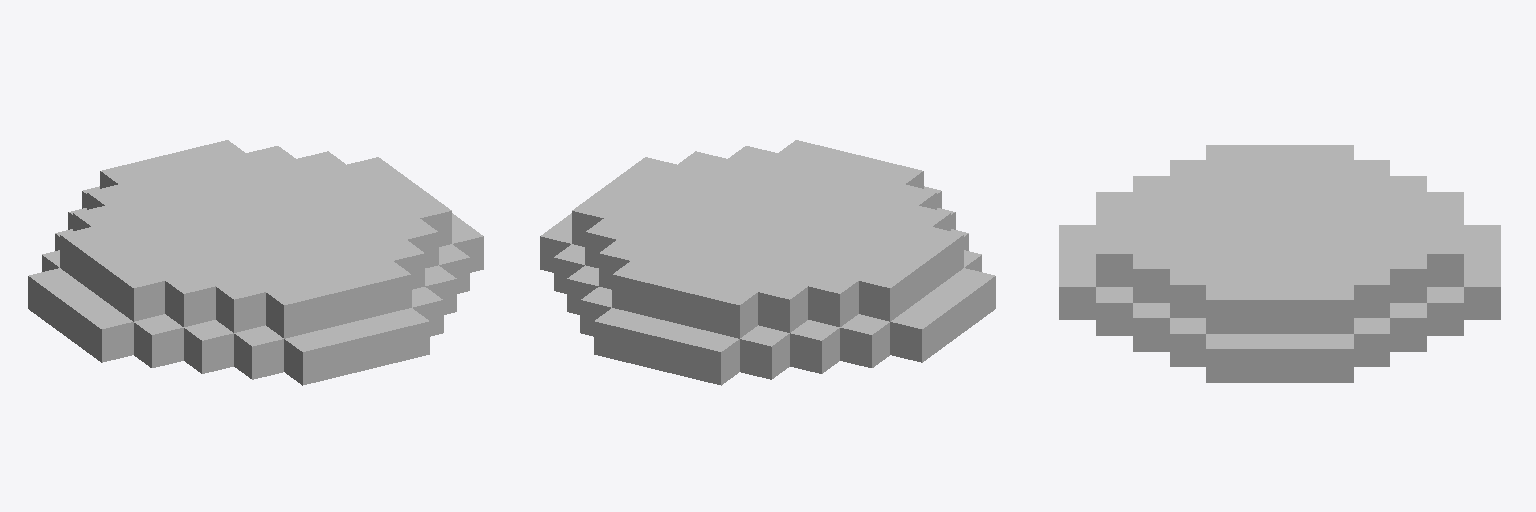
File: knob-1.obj
The picture shows the model from 3 angles: view 1: azimuth 30°, elevation 25°; view 2: azimuth 150°, elevation 25°; view 3: azimuth 270°, elevation 25°; orthographic projection.
Visible parts, largest first — view 1: knob-1; view 2: knob-1; view 3: knob-1.
Part boxes in pixels (bbox=[...]): knob-1: bbox=[28, 140, 483, 385]; knob-1: bbox=[540, 140, 995, 385]; knob-1: bbox=[1059, 145, 1500, 382].
Size of the model in its own units: 12 by 2 by 12.